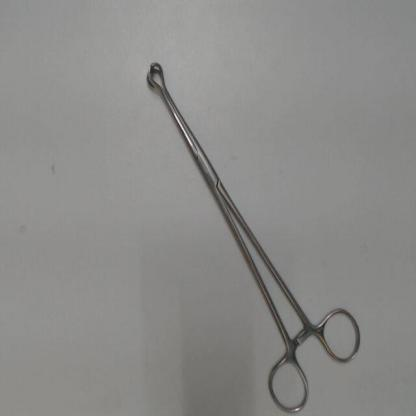8 Babcock Tissue Forceps: (141, 53, 367, 413)
